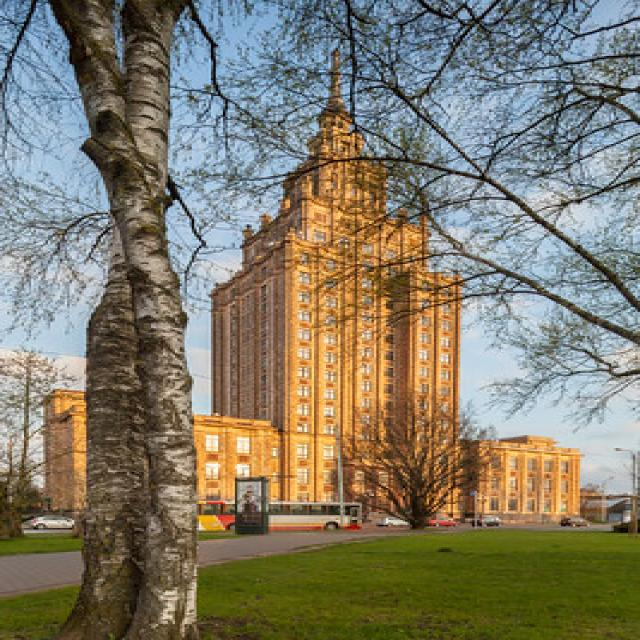building: (202, 97, 476, 526)
